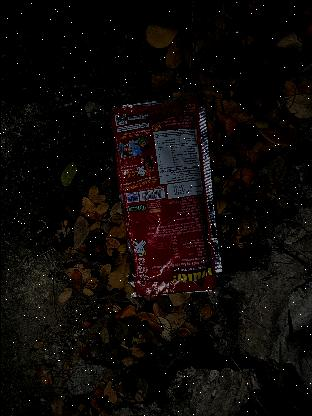Others: (99, 92, 224, 298)
